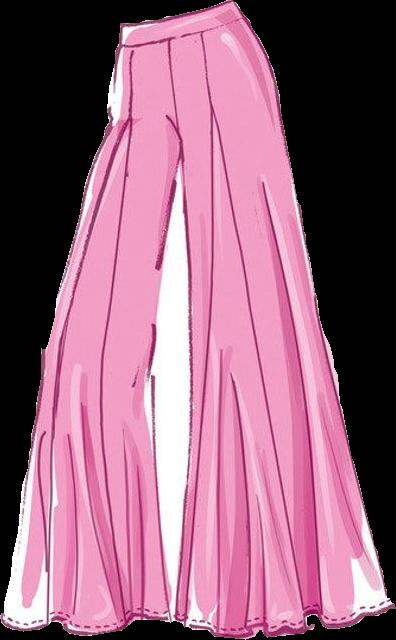Hemline: (173, 600, 395, 639), (0, 612, 174, 637)
Pantleg: (164, 1, 394, 637), (0, 18, 180, 635)
Waistline: (115, 11, 244, 50), (117, 0, 231, 28)
